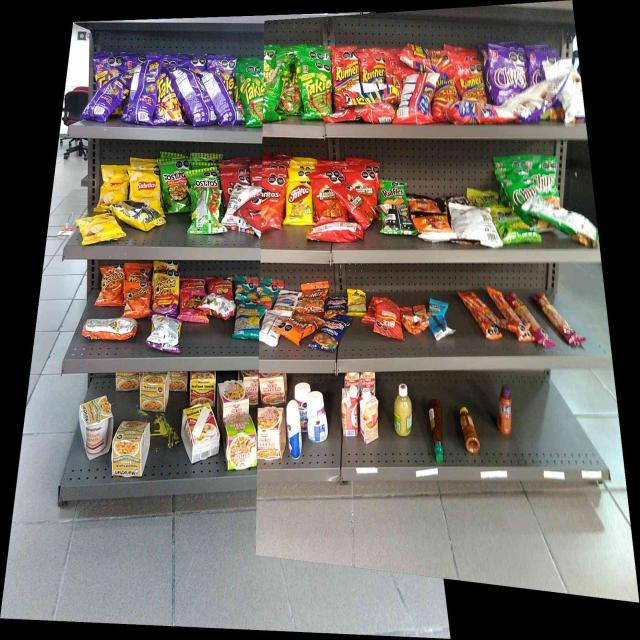bitzEnchilado90: (376, 302, 399, 336)
bitzEnchilado95: (476, 313, 501, 341)
bitzHabanero: (556, 312, 583, 353)
bokadosCacahuates: (316, 319, 343, 349), (327, 296, 347, 314)
botaneraChilito: (459, 406, 482, 453)
cheetosFlaminHot: (154, 272, 178, 314)
cheetosOriginal: (101, 265, 123, 306), (125, 282, 151, 315)
chipsFuego: (489, 42, 525, 98)
chipsJalapeno: (536, 163, 560, 204), (504, 178, 534, 202)
chipsPapatinas: (499, 210, 530, 244)
churrumais: (180, 293, 205, 322)
delPrimoSalsa: (394, 383, 412, 436)
doritosNacho: (262, 172, 283, 228)
fritosLimon: (286, 179, 312, 225)
hotNutsOriginal: (414, 217, 452, 240), (410, 192, 440, 214)
leoCacahuates: (274, 289, 296, 315)
leoMix: (298, 284, 324, 310), (278, 319, 313, 338)
maruchanPollo: (112, 418, 147, 478), (80, 403, 110, 453), (141, 380, 165, 411)
maruchanRes: (180, 408, 218, 458), (191, 378, 215, 402)
nestleCarnation: (359, 390, 379, 441), (342, 386, 357, 434)
nestleLechera: (307, 392, 328, 441), (286, 402, 303, 458)
nissinCamaron: (223, 418, 257, 469)
nissinRes: (258, 409, 284, 458), (221, 381, 249, 413)
productoAtras: (540, 208, 597, 246), (454, 204, 498, 249), (125, 63, 154, 122), (227, 184, 259, 237), (188, 192, 226, 234), (401, 75, 433, 124), (561, 60, 583, 122), (86, 85, 120, 120), (184, 70, 205, 124), (86, 320, 135, 341), (459, 106, 517, 122), (120, 208, 158, 232), (377, 206, 408, 235), (208, 94, 235, 126), (151, 318, 178, 350), (401, 305, 428, 334), (208, 294, 234, 322), (316, 228, 366, 242), (527, 82, 557, 102), (261, 314, 277, 347), (429, 316, 452, 338)
rancheritos: (314, 173, 342, 225), (346, 192, 364, 222), (349, 172, 376, 190)
rufflesQueso: (378, 180, 407, 203)
runners: (404, 42, 454, 72), (458, 63, 484, 104), (333, 47, 358, 83), (436, 78, 456, 120), (360, 53, 387, 83), (343, 89, 398, 103)
sabritasOriginal: (78, 215, 118, 241), (128, 168, 157, 202), (101, 166, 126, 203)
salsaBufalo: (427, 398, 444, 464)
semillasCalabaza: (350, 288, 366, 316)
semillasGirasol: (236, 303, 259, 339)
tajinDulce: (497, 383, 513, 434)
takisFuego: (156, 74, 182, 124), (208, 56, 234, 93), (92, 58, 122, 82)
takisOriginal: (304, 56, 332, 116), (238, 72, 264, 125), (280, 71, 302, 116)
tostitos: (160, 161, 186, 213), (188, 168, 219, 188)
